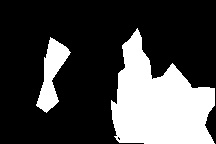Fire: (112, 51, 167, 140)
